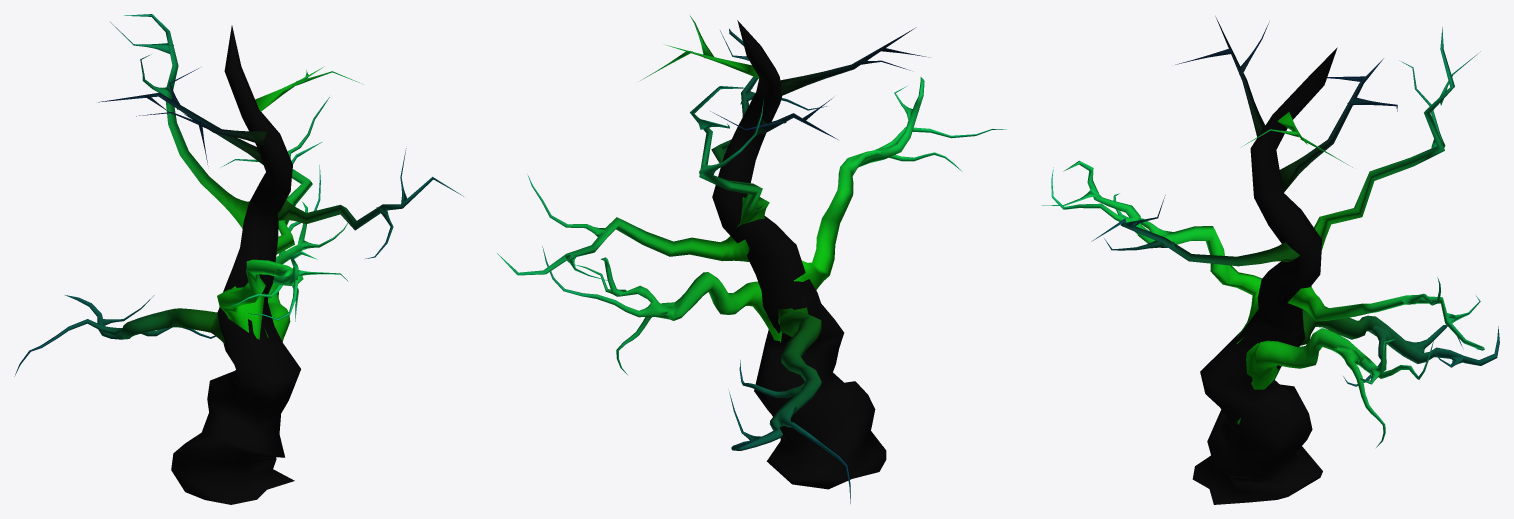
The model's file is S_Tree.fbx.
The picture shows the model from 3 angles, left to right: view 1: azimuth 30°, elevation 25°; view 2: azimuth 150°, elevation 25°; view 3: azimuth 270°, elevation 25°; orthographic projection. The views are drawn at different scales.
Parts seen in each view (by area): view 1: Tree_0; view 2: Tree_0; view 3: Tree_0.
Boxes of the visible parts, box(x1,y1,x2,y2) form: Tree_0: box(14, 14, 463, 504); Tree_0: box(497, 16, 1006, 503); Tree_0: box(1042, 16, 1499, 504).
Size of the model in its own units: 279 by 352 by 325.
